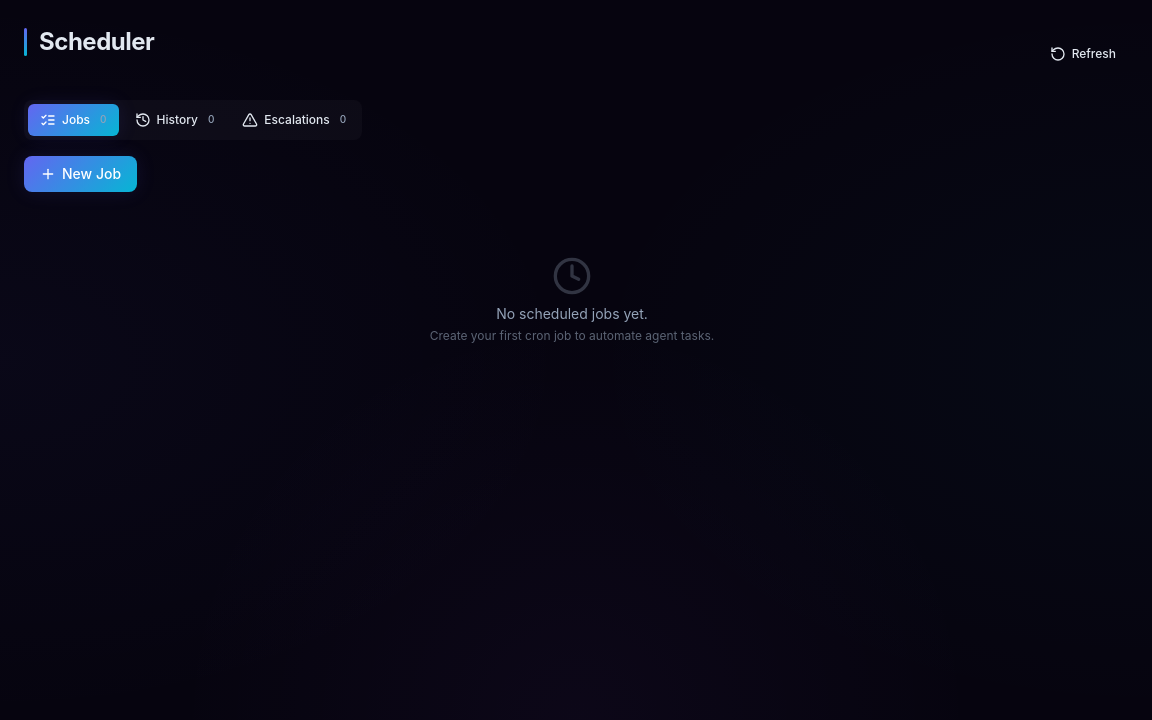
Test: Scheduler Page › shows cron presets in dialog
This screenshot has width=1152, height=720.
Click the button "New Job" at (81, 174), box [24,156,137,192]
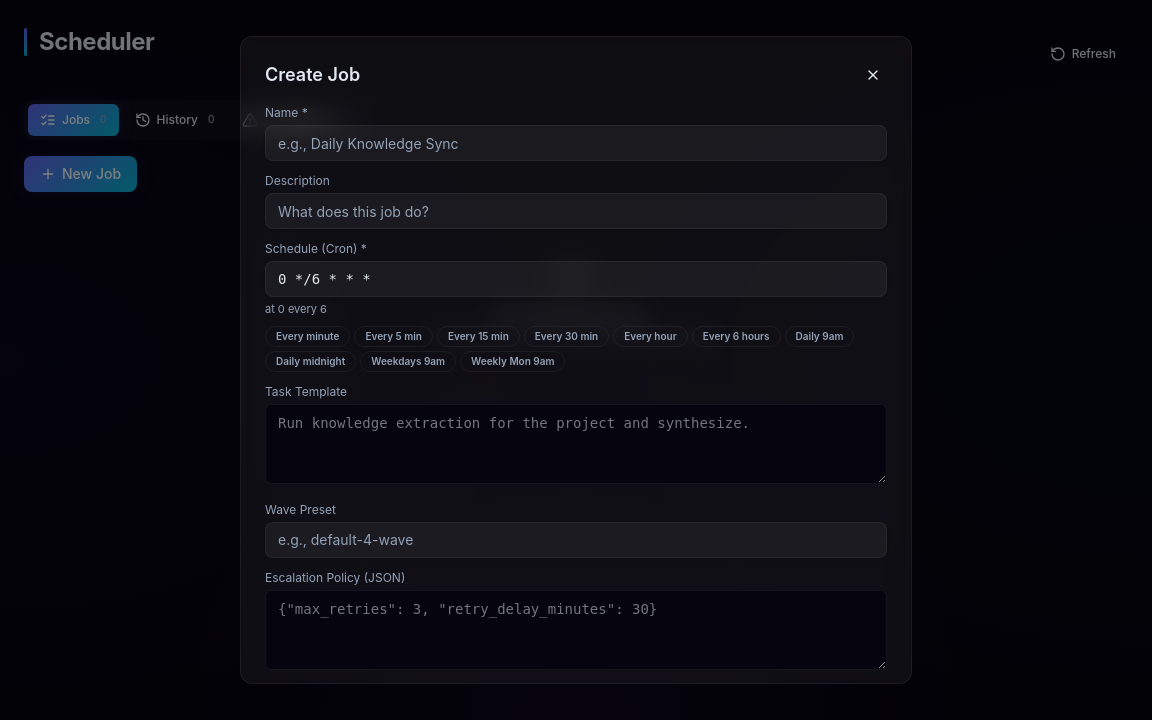
Check: the text "Daily 9am" is shown, box [785,326,854,346]
